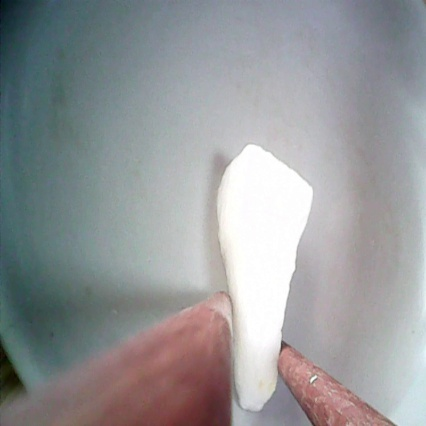white_chinese-yam: (212, 140, 317, 417)
